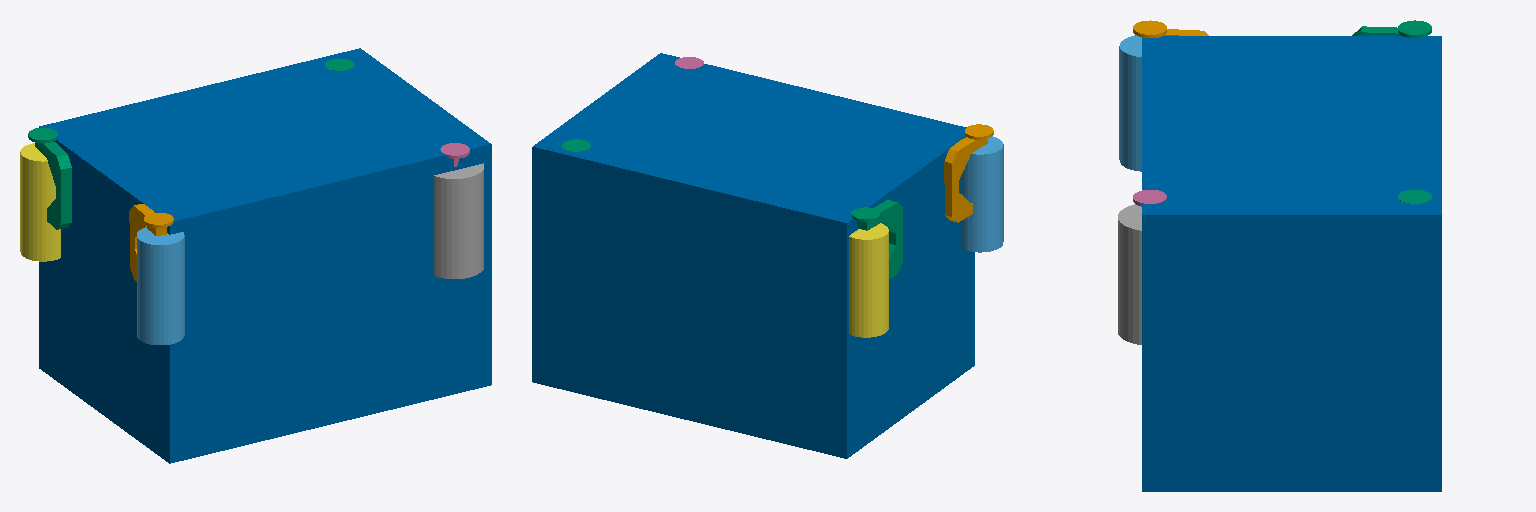
The robot description file, URDF, robot "rover2025":
<robot name="rover2025" version="1.0">
  <joint name="gps_locator" type="fixed">
    <origin rpy="0.00000 0.00000 0.00000" xyz="0.09323 0.00000 0.65743"/>
    <parent link="robot_root"/>
    <child link="gps"/>
    <axis xyz="0.00000 0.00000 1.00000"/>
  </joint>
  <joint name="robot_base_joint" type="fixed">
    <origin rpy="-0.00000 -0.00000 0.00000" xyz="0.00000 0.00000 -0.00050"/>
    <parent link="robot_root"/>
    <child link="robot_base"/>
  </joint>
  <joint name="wheel_R_front" type="continuous">
    <limit effort="0.00000" velocity="0.00000"/>
    <origin rpy="-0.00000 -0.00000 0.00000" xyz="-0.00000 -0.00000 -0.15555"/>
    <parent link="robot_wheel_l_front_actuator_link.008"/>
    <child link="robot_wheel_l_front_actuator_link.009"/>
    <axis xyz="0.00000 -1.00000 0.00000"/>
  </joint>
  <joint name="imu_joint" type="fixed">
    <origin rpy="-0.00000 0.00000 -0.00000" xyz="-0.00000 -0.00000 0.43039"/>
    <parent link="robot_base"/>
    <child link="imu"/>
  </joint>
  <joint name="rotate_L_back" type="revolute">
    <limit lower="-2.96706" upper="2.96706" effort="0.00000" velocity="0.00000"/>
    <origin rpy="-0.00000 -0.00000 0.00000" xyz="0.43705 -0.37063 0.32476"/>
    <parent link="robot_base"/>
    <child link="robot_wheel_l_front_actuator_link.005"/>
    <axis xyz="0.00000 0.00000 1.00000"/>
  </joint>
  <joint name="wheel_L_back" type="continuous">
    <limit effort="0.00000" velocity="0.00000"/>
    <origin rpy="0.00000 -0.00000 -0.00000" xyz="-0.00000 0.00000 -0.15555"/>
    <parent link="robot_wheel_l_front_actuator_link.005"/>
    <child link="robot_wheel_l_front_actuator_link.006"/>
    <axis xyz="0.00000 -1.00000 0.00000"/>
  </joint>
  <joint name="rotate_L_front" type="revolute">
    <limit lower="-2.96706" upper="2.96706" effort="0.00000" velocity="0.00000"/>
    <origin rpy="-0.00000 -0.00000 0.00000" xyz="-0.57753 -0.37063 0.32476"/>
    <parent link="robot_base"/>
    <child link="robot_wheel_l_front_actuator_link.003"/>
    <axis xyz="0.00000 0.00000 1.00000"/>
  </joint>
  <joint name="wheel_L_front" type="continuous">
    <limit effort="0.00000" velocity="0.00000"/>
    <origin rpy="0.00000 -0.00000 -0.00000" xyz="-0.00000 0.00000 -0.15555"/>
    <parent link="robot_wheel_l_front_actuator_link.003"/>
    <child link="robot_wheel_l_front_actuator_link.004"/>
    <axis xyz="0.00000 -1.00000 0.00000"/>
  </joint>
  <joint name="rotate_R_back" type="revolute">
    <limit lower="-2.96706" upper="2.96706" effort="0.00000" velocity="0.00000"/>
    <origin rpy="0.00000 -0.00000 -3.14159" xyz="0.43705 0.32063 0.32476"/>
    <parent link="robot_base"/>
    <child link="robot_wheel_l_front_actuator_link.011"/>
    <axis xyz="0.00000 0.00000 1.00000"/>
  </joint>
  <joint name="wheel_R_back" type="continuous">
    <limit effort="0.00000" velocity="0.00000"/>
    <origin rpy="-0.00000 -0.00000 0.00000" xyz="0.00000 0.00000 -0.15555"/>
    <parent link="robot_wheel_l_front_actuator_link.011"/>
    <child link="robot_wheel_l_front_actuator_link.012"/>
    <axis xyz="0.00000 -1.00000 0.00000"/>
  </joint>
  <joint name="rotate_R_front" type="revolute">
    <limit lower="-2.96706" upper="2.96706" effort="0.00000" velocity="0.00000"/>
    <origin rpy="0.00000 -0.00000 -3.14159" xyz="-0.57753 0.32063 0.32476"/>
    <parent link="robot_base"/>
    <child link="robot_wheel_l_front_actuator_link.008"/>
    <axis xyz="0.00000 0.00000 1.00000"/>
  </joint>
  <link name="robot_root">
    <collision name="body_collision">
      <origin rpy="0.00000 0.00000 0.00000" xyz="0.00000 0.00000 0.00000"/>
      <geometry>
        <box size="5.69672 4.01711 2.92977"/>
      </geometry>
    </collision>
  </link>
  <link name="gps">
    <sensor name="gps.001" type="GPS">
      <parent link="gps"/>
    </sensor>
  </link>
  <link name="robot_wheel_l_front_actuator_link.008">
    <inertial>
      <inertia ixx="0.00100" ixy="0.00000" ixz="0.00000" iyy="0.00100" iyz="-0.00000" izz="0.00100"/>
      <origin rpy="0.00000 0.00000 0.00000" xyz="0.00000 0.00000 -0.00000"/>
      <mass value="1.00000"/>
    </inertial>
    <visual name="bone-r-1">
      <material name="None"/>
      <origin rpy="0.00000 0.00000 1.57080" xyz="-0.00377 0.00334 0.07903"/>
      <geometry>
        <mesh filename="../meshes/stl/Science.422.stl" scale="1 1 1"/>
      </geometry>
    </visual>
  </link>
  <link name="robot_wheel_l_front_actuator_link.009">
    <collision name="wheel-r-1_collision">
      <origin rpy="0.00000 -0.00000 3.14159" xyz="-0.57753 0.32063 -0.16871"/>
      <geometry>
        <cylinder radius="0.78907" length="0.71014"/>
      </geometry>
    </collision>
    <visual name="wheel-r-1">
      <material name="None"/>
      <origin rpy="0.00000 0.00000 1.57080" xyz="-0.00334 0.00643 0.01418"/>
      <geometry>
        <cylinder radius="0.06742" length="0.32599"/>
      </geometry>
    </visual>
  </link>
  <link name="robot_base">
    <visual name="body">
      <material name="None"/>
      <origin rpy="-0.00000 0.00000 -0.00000" xyz="-0.00000 -0.00000 0.00050"/>
      <geometry>
        <box size="1.09671 0.77336 0.78564"/>
      </geometry>
    </visual>
  </link>
  <link name="imu">
    <sensor name="imu-sensor" type="imu">
      <parent link="imu"/>
    </sensor>
  </link>
  <link name="robot_wheel_l_front_actuator_link.005">
    <inertial>
      <inertia ixx="0.00100" ixy="-0.00000" ixz="-0.00000" iyy="0.00100" iyz="0.00000" izz="0.00100"/>
      <origin rpy="0.00000 0.00000 0.00000" xyz="0.00000 0.00000 -0.00000"/>
      <mass value="1.00000"/>
    </inertial>
    <visual name="bone-l-2">
      <material name="None"/>
      <origin rpy="-0.00000 -0.00000 -1.57080" xyz="-0.00056 0.00243 0.06913"/>
      <geometry>
        <mesh filename="../meshes/stl/Science.479.stl" scale="1 1 1"/>
      </geometry>
    </visual>
  </link>
  <link name="robot_wheel_l_front_actuator_link.006">
    <collision name="wheel-l-2_collision">
      <origin rpy="0.00000 0.00000 0.00000" xyz="-0.43705 0.37063 -0.16871"/>
      <geometry>
        <cylinder radius="0.78567" length="0.93707"/>
      </geometry>
    </collision>
    <visual name="wheel-l-2">
      <material name="None"/>
      <origin rpy="-0.00000 -0.00000 -1.57080" xyz="-0.00094 0.00902 0.00436"/>
      <geometry>
        <cylinder radius="0.08897" length="0.32599"/>
      </geometry>
    </visual>
  </link>
  <link name="robot_wheel_l_front_actuator_link.003">
    <inertial>
      <inertia ixx="0.00100" ixy="-0.00000" ixz="-0.00000" iyy="0.00100" iyz="0.00000" izz="0.00100"/>
      <origin rpy="0.00000 0.00000 0.00000" xyz="0.00000 0.00000 -0.00000"/>
      <mass value="1.00000"/>
    </inertial>
    <visual name="bone-l-1">
      <material name="None"/>
      <origin rpy="0.00000 -0.00000 1.57080" xyz="0.00364 0.00244 0.07904"/>
      <geometry>
        <mesh filename="../meshes/stl/Science.483.stl" scale="1 1 1"/>
      </geometry>
    </visual>
  </link>
  <link name="robot_wheel_l_front_actuator_link.004">
    <collision name="wheel-l-1_collision">
      <origin rpy="0.00000 0.00000 0.00000" xyz="0.57753 0.37063 -0.16871"/>
      <geometry>
        <cylinder radius="0.78693" length="0.85322"/>
      </geometry>
    </collision>
    <visual name="wheel-l-1">
      <material name="None"/>
      <origin rpy="0.00000 0.00000 1.57080" xyz="0.00517 -0.00424 0.02084"/>
      <geometry>
        <cylinder radius="0.07091" length="0.32602"/>
      </geometry>
    </visual>
  </link>
  <link name="robot_wheel_l_front_actuator_link.011">
    <inertial>
      <inertia ixx="0.00100" ixy="0.00000" ixz="0.00000" iyy="0.00100" iyz="0.00000" izz="0.00100"/>
      <origin rpy="0.00000 0.00000 0.00000" xyz="0.00000 0.00000 -0.00000"/>
      <mass value="1.00000"/>
    </inertial>
    <visual name="bone-r-2">
      <material name="None"/>
      <origin rpy="-0.00000 -0.00000 -1.57080" xyz="0.00033 0.00341 0.06913"/>
      <geometry>
        <mesh filename="../meshes/stl/Science.488.stl" scale="1 1 1"/>
      </geometry>
    </visual>
  </link>
  <link name="robot_wheel_l_front_actuator_link.012">
    <collision name="wheel-r-2_collision">
      <origin rpy="0.00000 -0.00000 3.14159" xyz="0.43705 0.32063 -0.16871"/>
      <geometry>
        <cylinder radius="0.77344" length="0.78904"/>
      </geometry>
    </collision>
    <visual name="wheel-r-2">
      <material name="None"/>
      <origin rpy="-0.00000 0.00000 -1.57080" xyz="0.00013 0.01000 0.00436"/>
      <geometry>
        <cylinder radius="0.07492" length="0.32598"/>
      </geometry>
    </visual>
  </link>
</robot>

--- Facts derived from the render (not from the file) ---
Views: 3 orthographic renders of the robot side by side, from view 1: azimuth 30°, elevation 25°; view 2: azimuth 150°, elevation 25°; view 3: azimuth 270°, elevation 25°.
Model rover2025 with 12 links and 11 joints (4 revolute, 4 continuous, 3 fixed), rooted at robot_root, posed all joints at 0.
Links seen in each view (by area): view 1: robot_base, robot_wheel_l_front_actuator_link.006, robot_wheel_l_front_actuator_link.004, robot_wheel_l_front_actuator_link.009, robot_wheel_l_front_actuator_link.008, robot_wheel_l_front_actuator_link.003; view 2: robot_base, robot_wheel_l_front_actuator_link.009, robot_wheel_l_front_actuator_link.004, robot_wheel_l_front_actuator_link.003, robot_wheel_l_front_actuator_link.008; view 3: robot_base, robot_wheel_l_front_actuator_link.006, robot_wheel_l_front_actuator_link.004, robot_wheel_l_front_actuator_link.008, robot_wheel_l_front_actuator_link.003.
Link boxes in pixels (left/top/right/bottom): robot_base: left=39, top=48, right=491, bottom=463; robot_wheel_l_front_actuator_link.006: left=434, top=163, right=483, bottom=278; robot_wheel_l_front_actuator_link.004: left=137, top=227, right=184, bottom=344; robot_wheel_l_front_actuator_link.009: left=20, top=143, right=60, bottom=261; robot_wheel_l_front_actuator_link.008: left=28, top=128, right=71, bottom=229; robot_wheel_l_front_actuator_link.003: left=129, top=204, right=173, bottom=281; robot_base: left=532, top=53, right=974, bottom=458; robot_wheel_l_front_actuator_link.009: left=849, top=223, right=888, bottom=337; robot_wheel_l_front_actuator_link.004: left=962, top=136, right=1003, bottom=252; robot_wheel_l_front_actuator_link.003: left=944, top=124, right=993, bottom=222; robot_wheel_l_front_actuator_link.008: left=852, top=200, right=902, bottom=278; robot_base: left=1142, top=36, right=1441, bottom=491; robot_wheel_l_front_actuator_link.006: left=1118, top=204, right=1141, bottom=344; robot_wheel_l_front_actuator_link.004: left=1119, top=35, right=1141, bottom=171; robot_wheel_l_front_actuator_link.008: left=1352, top=20, right=1431, bottom=37; robot_wheel_l_front_actuator_link.003: left=1133, top=20, right=1208, bottom=37.
Size in the robot's own frame: 1.19 by 0.8373 by 0.7965 metres.
Meshes: 4 distinct files referenced, 4 mesh visuals loaded (4 binary STL).